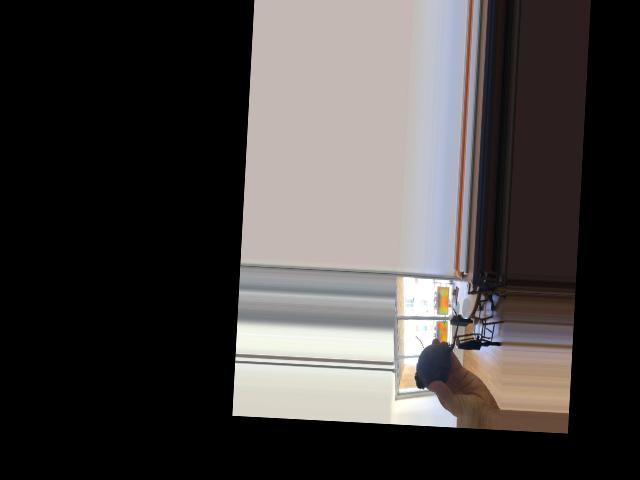beet: (413, 305, 459, 390)
